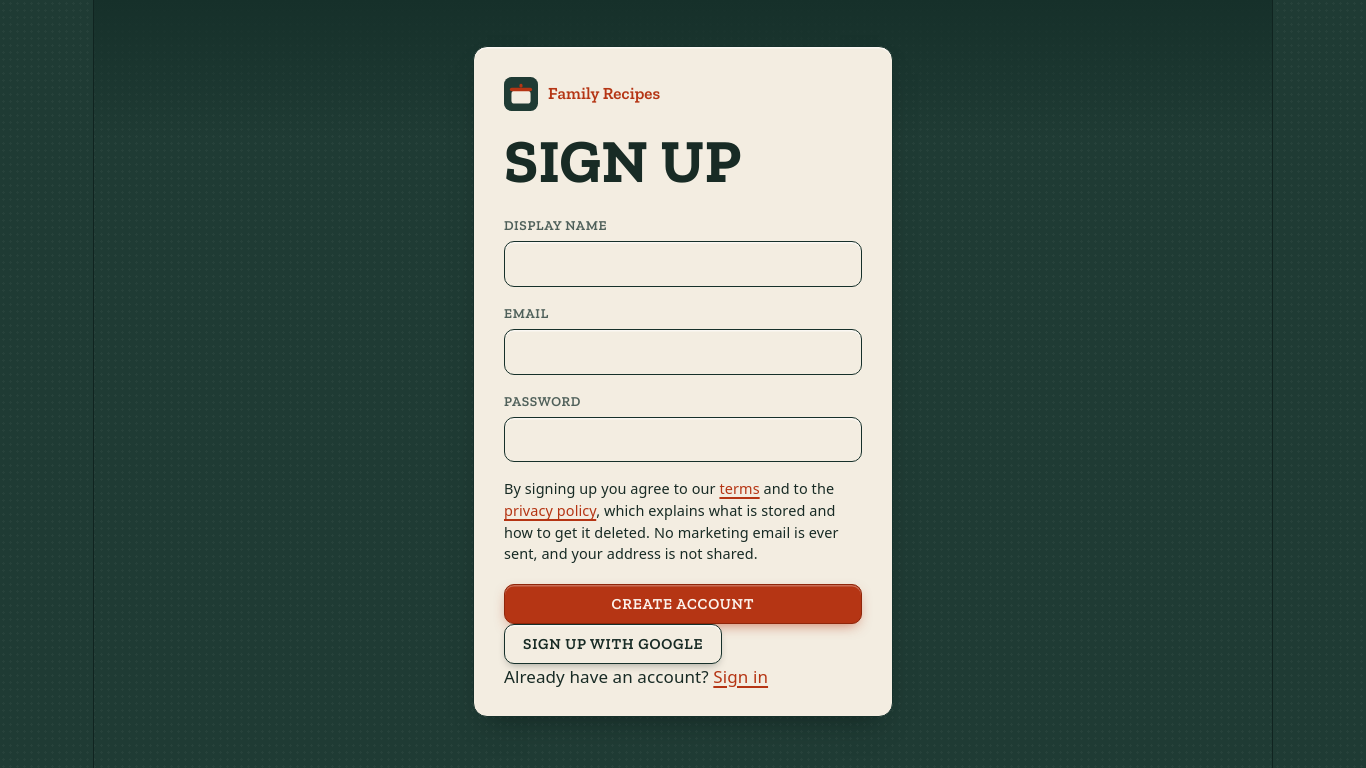
Scenario: tells the user to check their inbox when there is no session yet
The image size is (1366, 768).
Step 1. Type "A" into the field labelled "Display name" → (683,264), box [504,241,862,287]
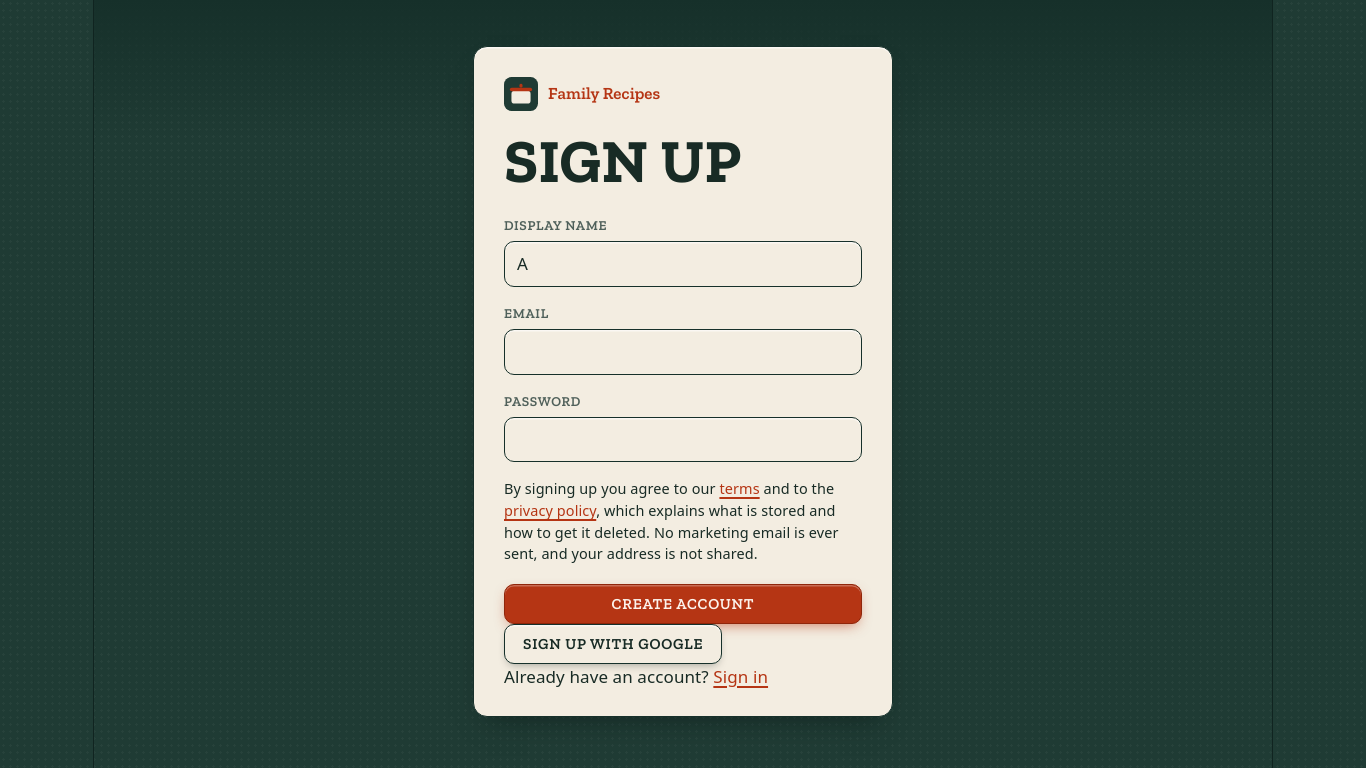
Step 2. Type "a@b.dev" into the field labelled "Email" → (683,352), box [504,329,862,374]
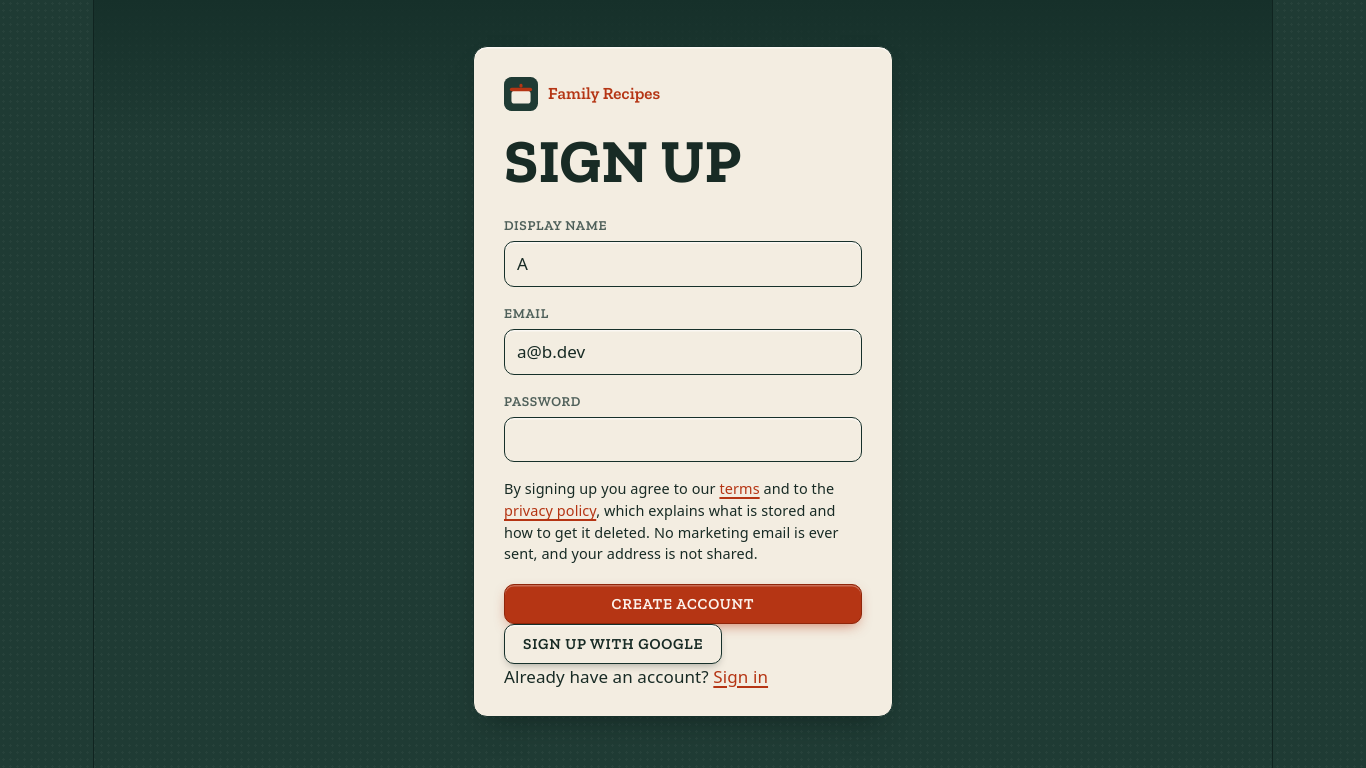
Step 3. Type "hunter2hunter2" into the password field labelled "Password" → (683,440), box [504,417,862,462]
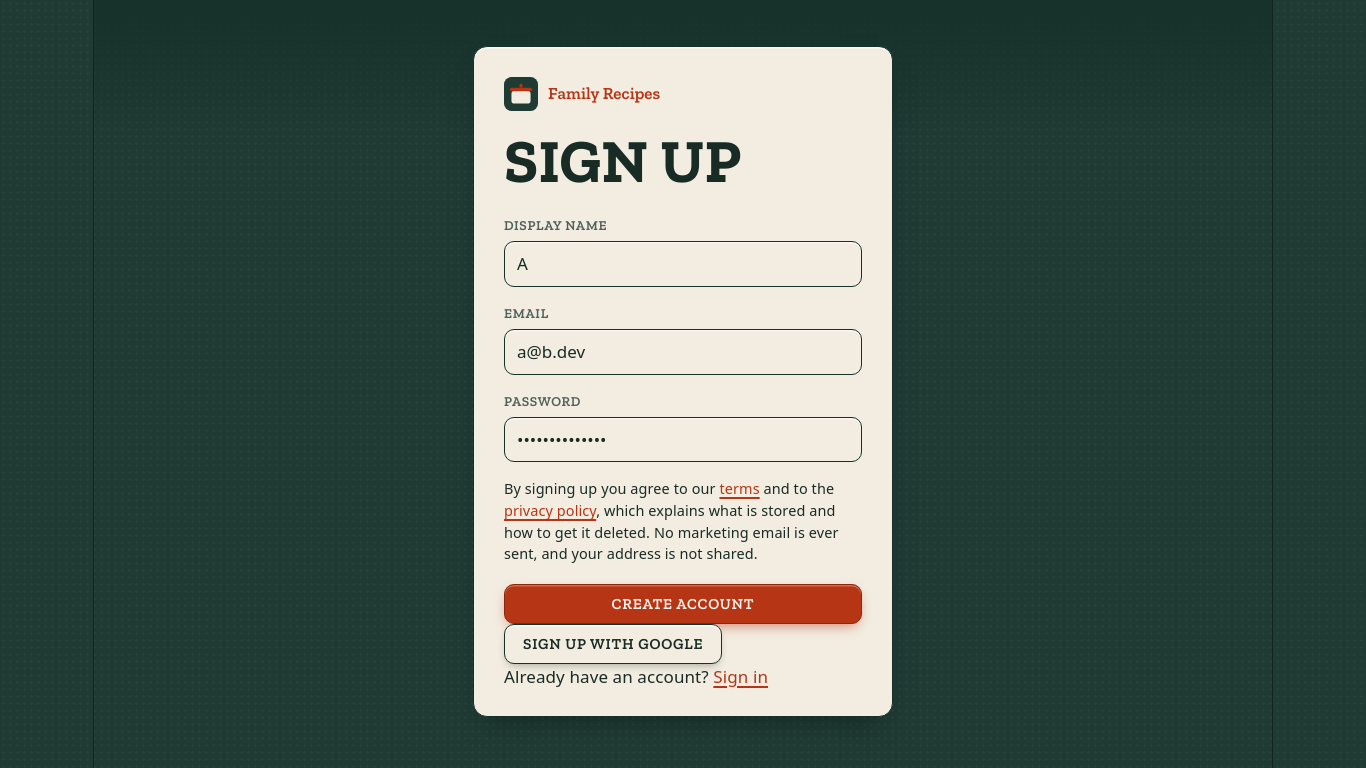
Step 4. Click the button "Create account" → (683,604), box [504,584,862,624]
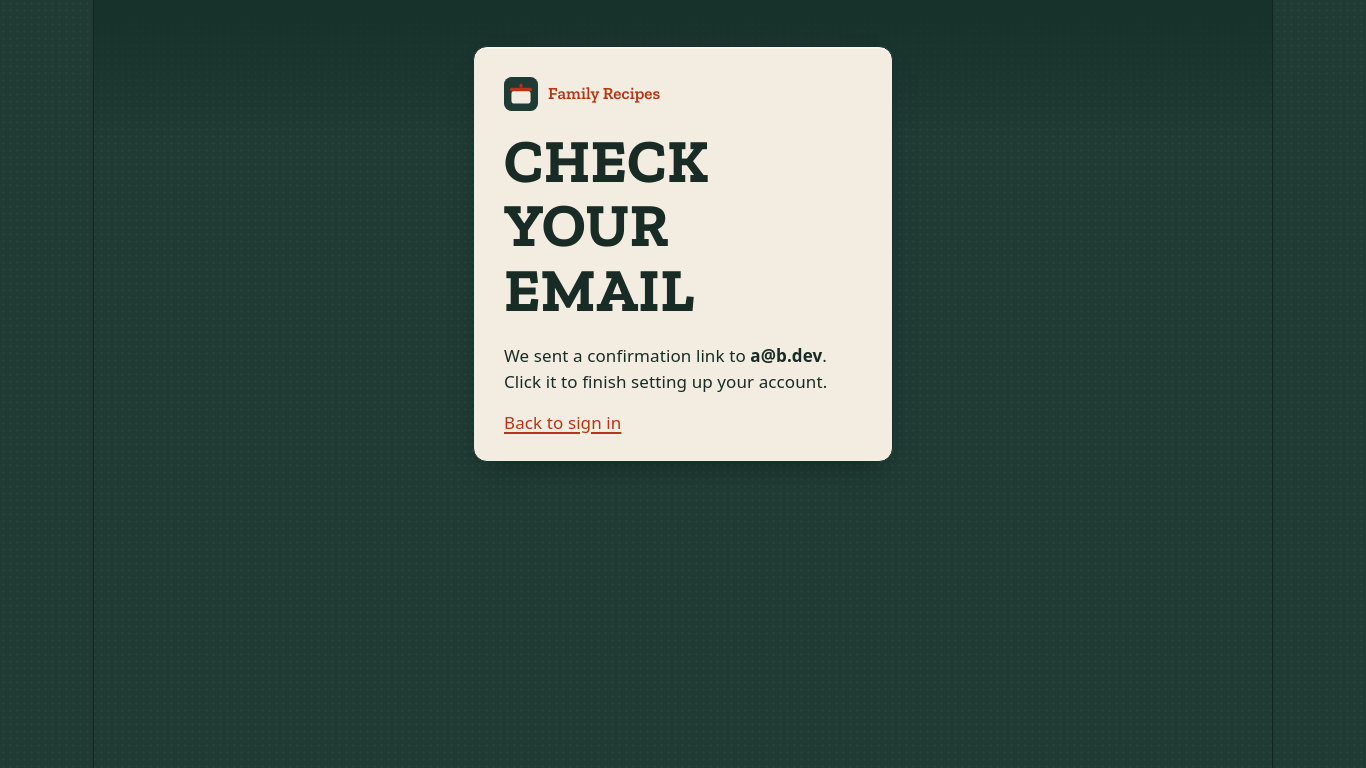
Result: the heading "Check your email" is shown at [504,124,708,327]
Result: the text "a@b.dev" is shown at [750,344,822,367]
